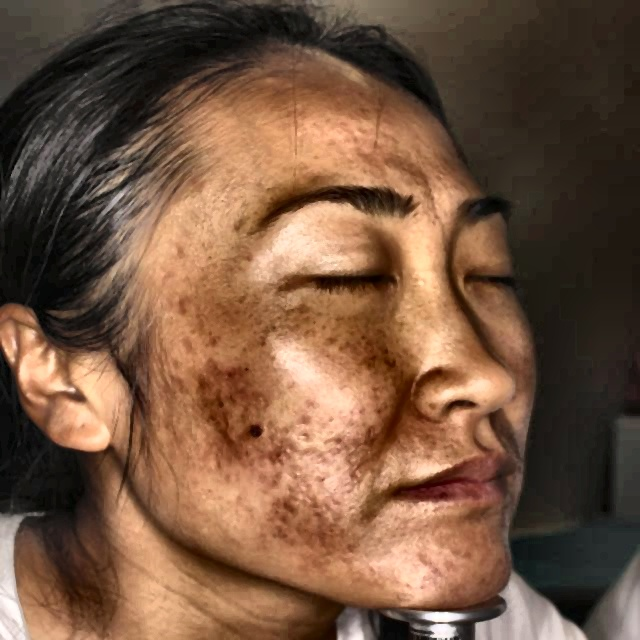pustule: (213, 420, 241, 450), (262, 446, 297, 464), (215, 364, 241, 382), (380, 131, 404, 150), (257, 73, 287, 88), (174, 295, 192, 320), (226, 386, 248, 406), (183, 174, 202, 193)
